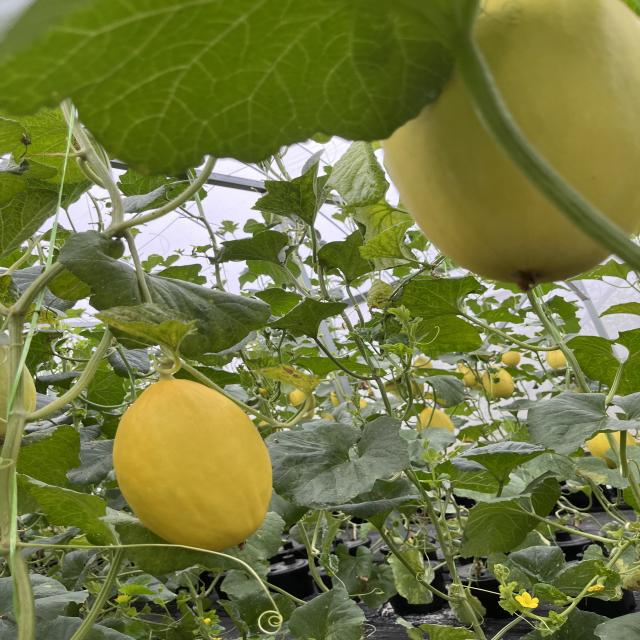CMV: (373, 544, 441, 604)
alternaria leaf blight: (113, 303, 207, 349), (262, 357, 332, 401)
healthy: (52, 255, 276, 354), (262, 417, 412, 508), (454, 459, 571, 558), (8, 432, 115, 518), (526, 392, 640, 456), (563, 327, 640, 398), (208, 230, 300, 288), (240, 170, 334, 226), (321, 139, 380, 218), (284, 586, 366, 640), (386, 272, 476, 321), (341, 215, 417, 267), (410, 311, 495, 350)
